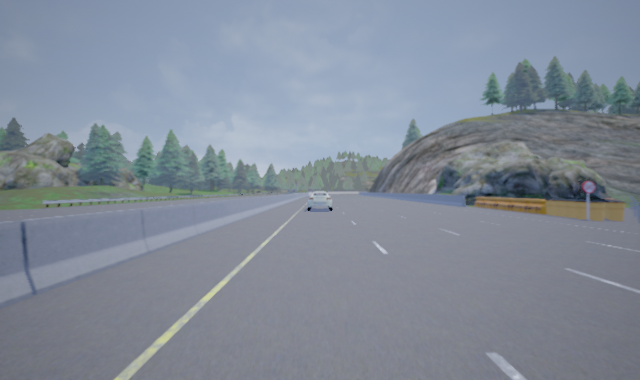vehicle: (306, 191, 333, 211)
